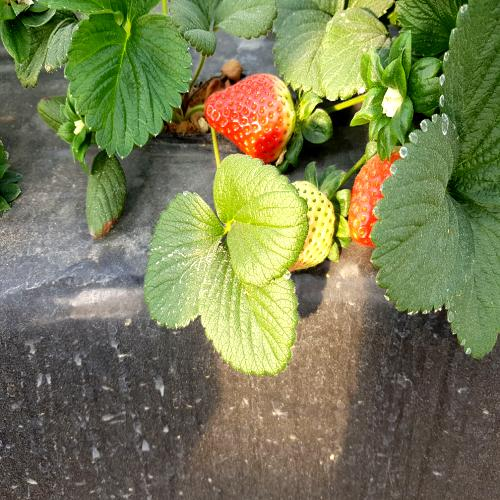partially-ripe: (203, 68, 301, 166)
